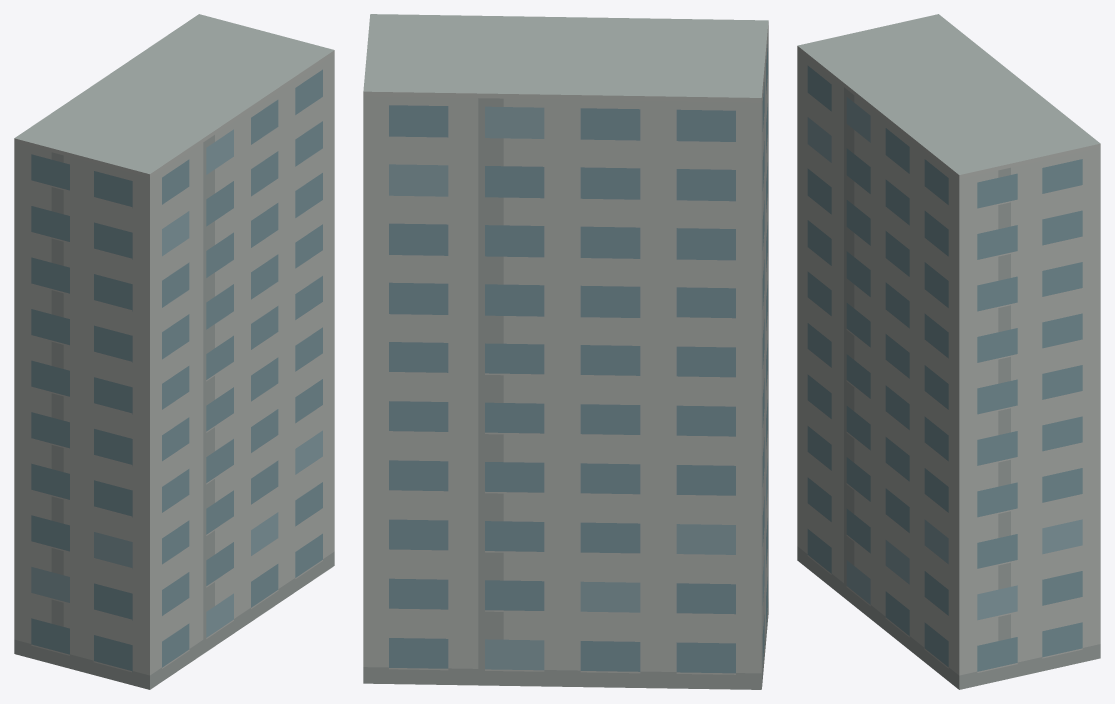
File: residential-be542989-2acb-457d-84e3-1e43b482410e.glb
The picture shows the model from 3 angles, left to right: view 1: azimuth 30°, elevation 25°; view 2: azimuth 150°, elevation 25°; view 3: azimuth 270°, elevation 25°; orthographic projection. The views are drawn at different scales.
Visible parts, largest first — view 1: residential-be542989-2acb-457d-84e3-1e43b482410e.tmp; view 2: residential-be542989-2acb-457d-84e3-1e43b482410e.tmp; view 3: residential-be542989-2acb-457d-84e3-1e43b482410e.tmp.
Part boxes in pixels (bbox=[...]): residential-be542989-2acb-457d-84e3-1e43b482410e.tmp: bbox=[14, 14, 334, 689]; residential-be542989-2acb-457d-84e3-1e43b482410e.tmp: bbox=[363, 14, 768, 689]; residential-be542989-2acb-457d-84e3-1e43b482410e.tmp: bbox=[797, 14, 1100, 689].
Bounding box in the file's own units: 20.82 × 31 × 16.56.
